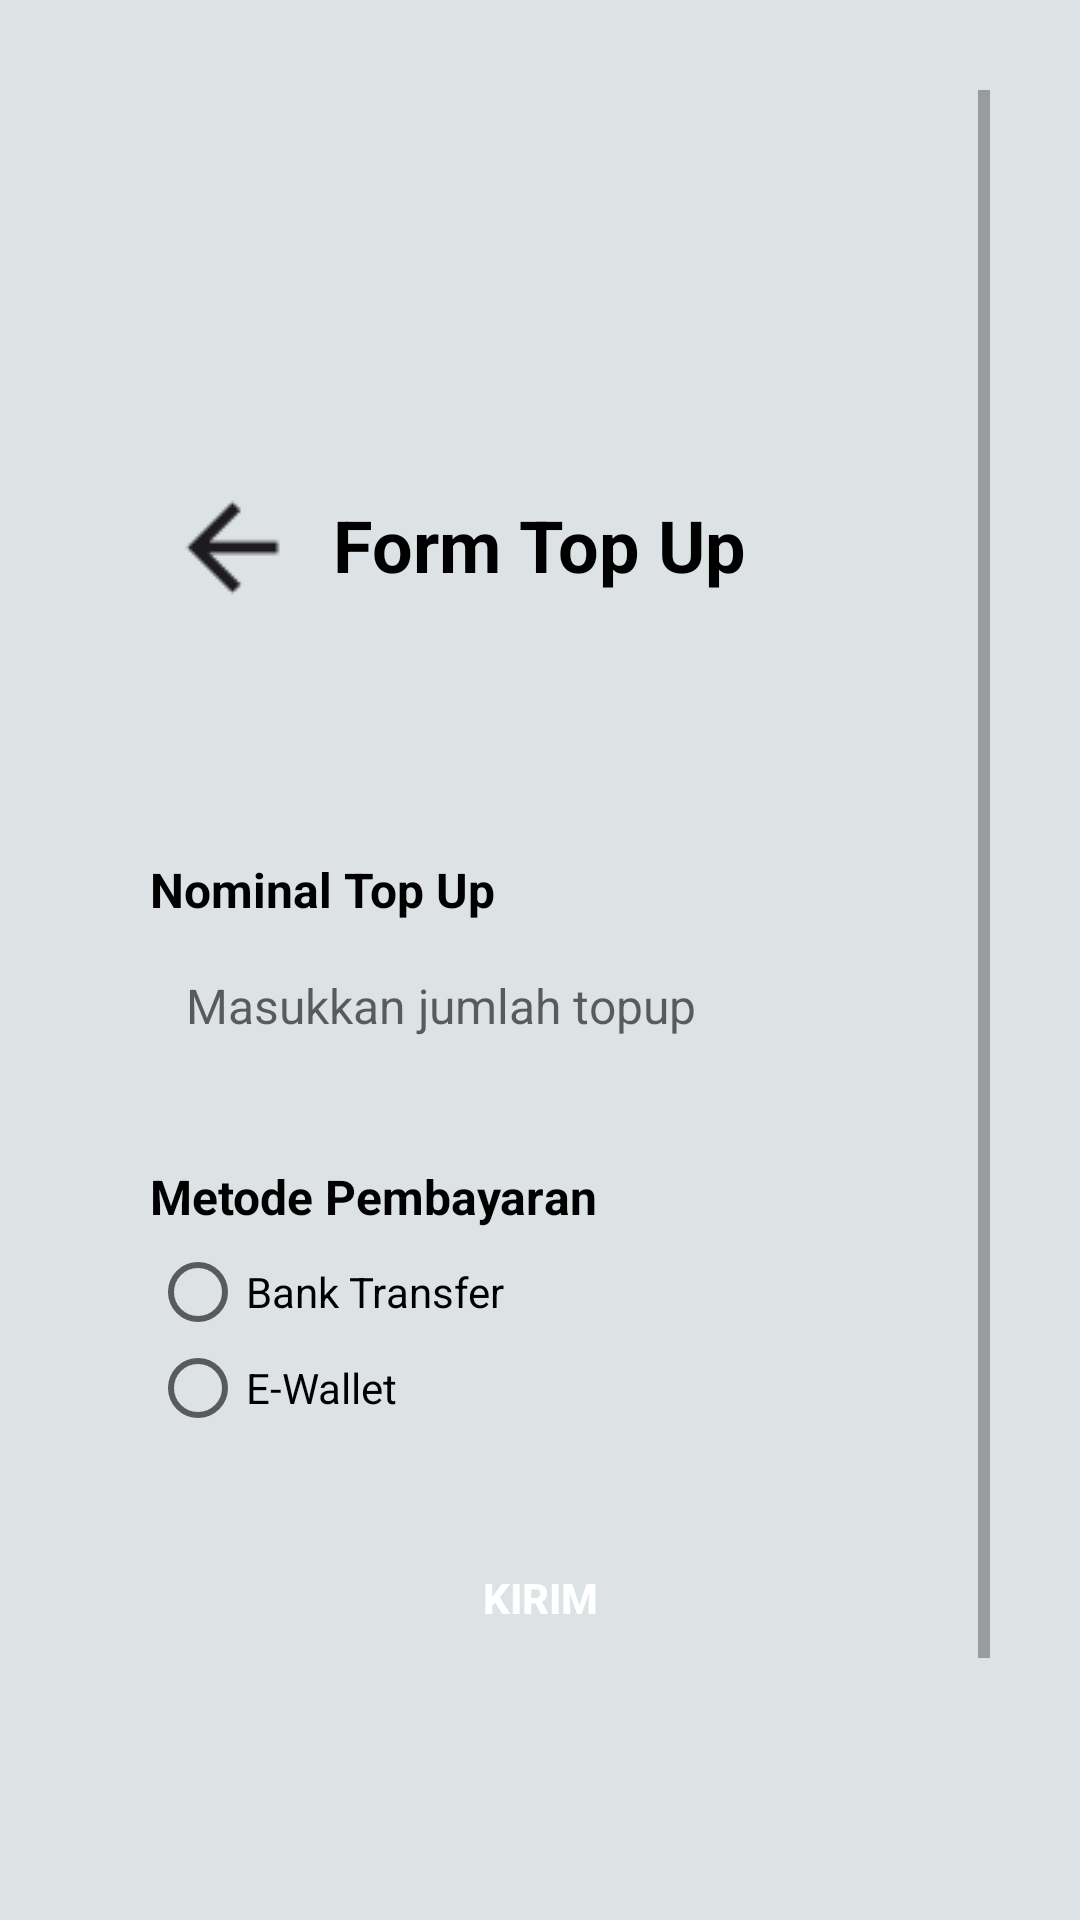

Where icons sit on this 1080px x 1920px app screen, as detection(x1, y1, x2, y2):
Kembali: detection(186, 501, 280, 594)
